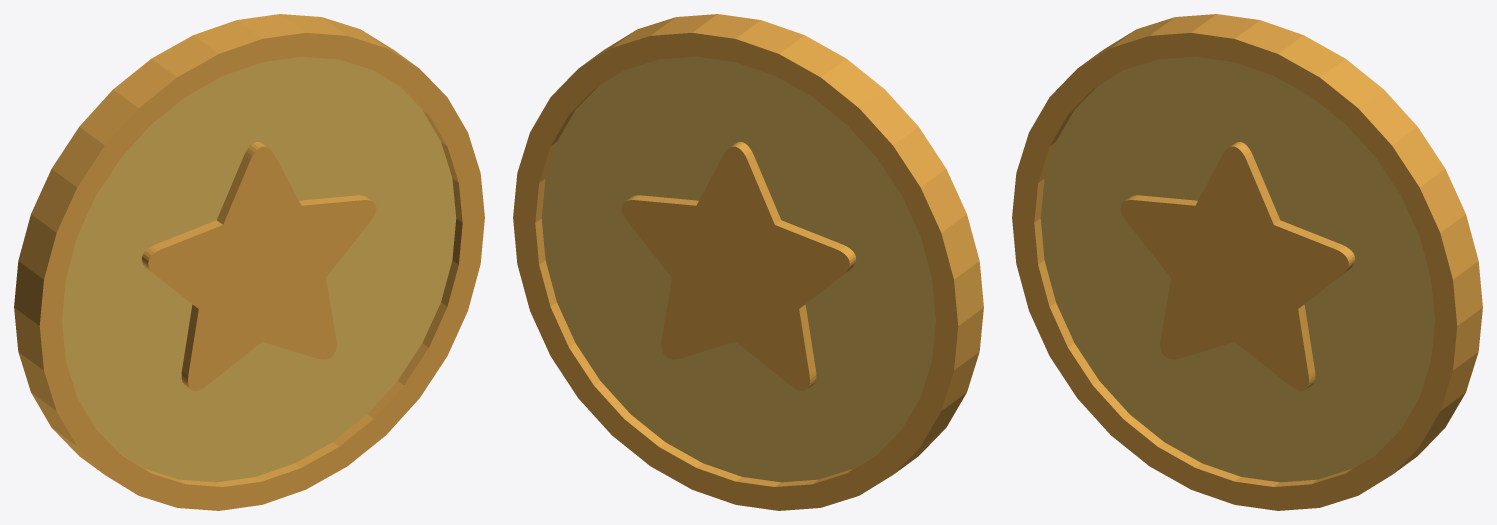
The model's file is Coin.fbx.
3 views of the same model, side by side, from view 1: azimuth 30°, elevation 25°; view 2: azimuth 150°, elevation 25°; view 3: azimuth 330°, elevation 25° (orthographic).
Visible parts, largest first — view 1: Cylinder.002, Cylinder.001, Circle.001; view 2: Cylinder.002, Cylinder.001, Circle.001; view 3: Cylinder.002, Cylinder.001, Circle.001.
Boxes of the visible parts, x1,y1,x2,y2 form: Cylinder.002: (62, 56, 456, 482); Cylinder.001: (14, 14, 484, 510); Circle.001: (141, 142, 376, 390); Cylinder.002: (541, 56, 935, 482); Cylinder.001: (513, 14, 983, 510); Circle.001: (621, 142, 856, 390); Cylinder.002: (1040, 56, 1434, 482); Cylinder.001: (1012, 14, 1482, 510); Circle.001: (1120, 142, 1355, 390).
Size of the model in its own units: 200 by 200 by 20.
